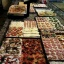pizza: (21, 38, 46, 63)
